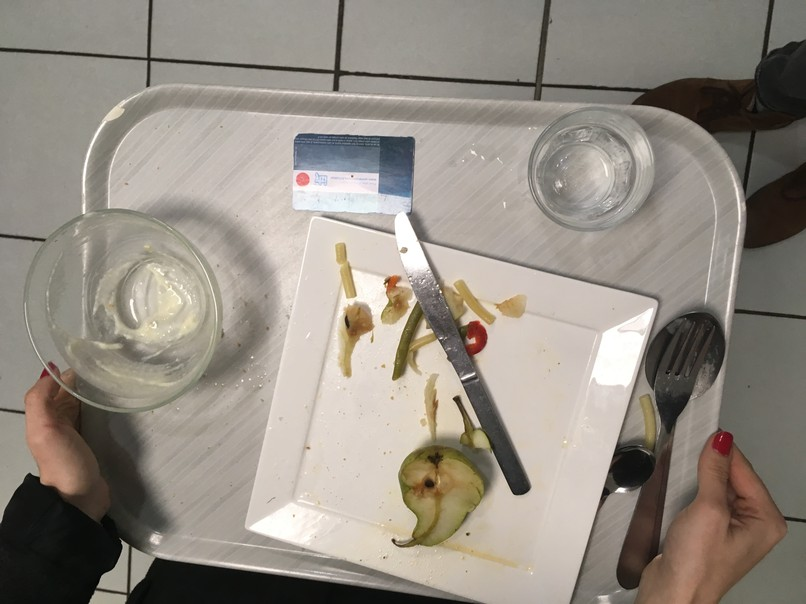cup: (519, 95, 657, 230)
cutlery: (635, 304, 725, 604), (603, 444, 666, 515), (380, 199, 431, 268)
orga: (406, 443, 490, 561), (443, 268, 527, 355), (382, 271, 437, 386), (331, 241, 376, 377)
